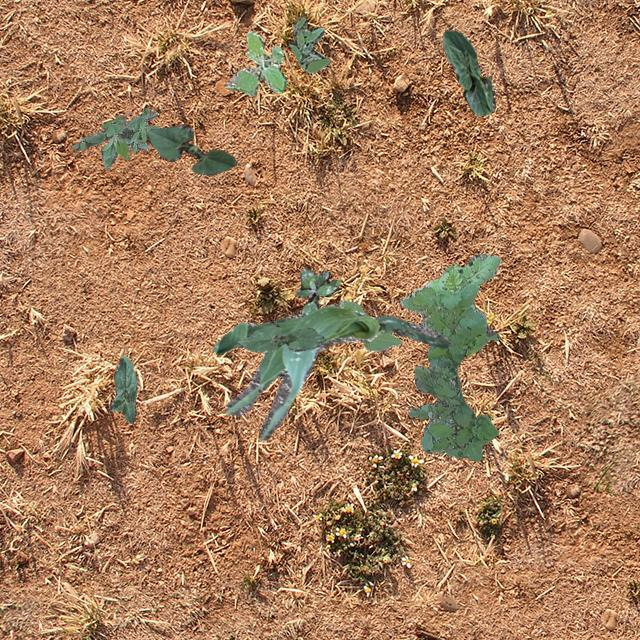crop: (212, 302, 449, 439), (146, 124, 236, 174), (442, 29, 494, 114), (338, 299, 401, 351), (236, 324, 324, 352), (108, 353, 136, 422)
weed: (400, 252, 500, 460), (72, 106, 158, 168), (224, 30, 286, 96), (288, 16, 328, 72), (294, 268, 338, 312)
